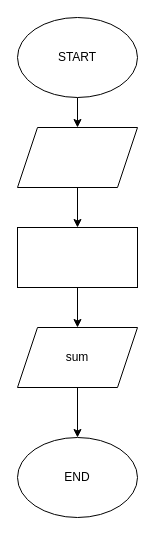
The diagram is 155 pixels wide and 535 high, and some of its shapes have lost their labels. The box of each missing label's shape, as (x1, y1, x2, y2) in pixels:
a, b, sum: (16, 126, 138, 188)
sum = a + b: (16, 226, 138, 288)
